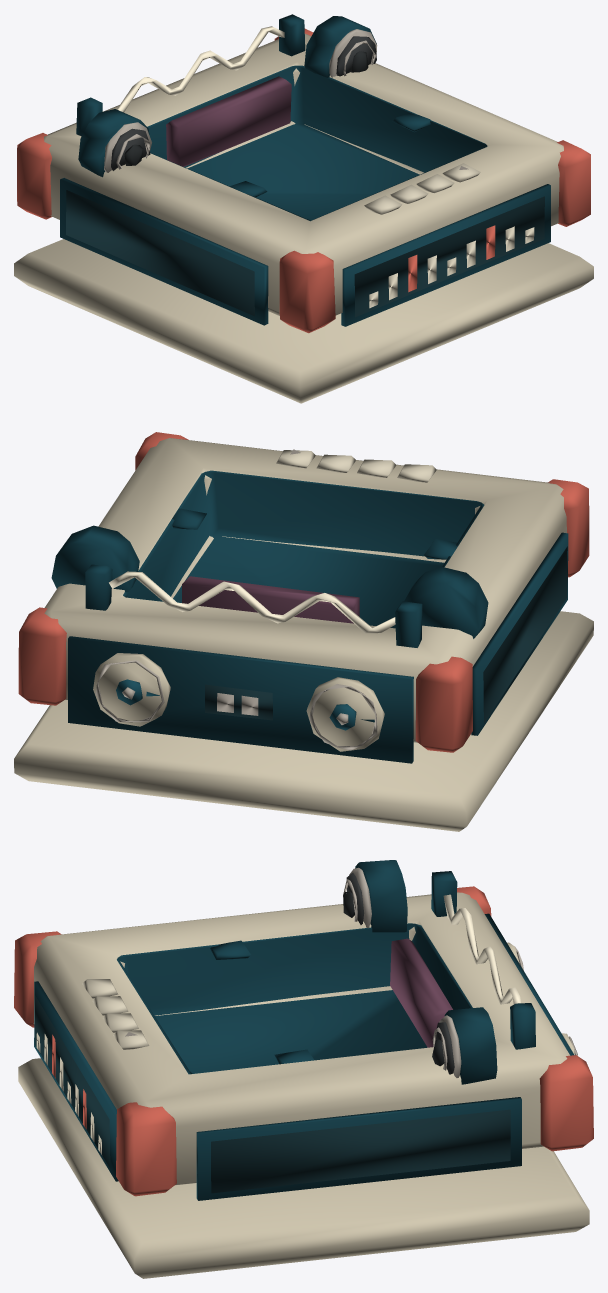
The model's file is kart.body.feedback.lod1.glb.
The picture shows the model from 3 angles, top to bottom: view 1: azimuth 30°, elevation 25°; view 2: azimuth 150°, elevation 25°; view 3: azimuth 270°, elevation 25°; orthographic projection. The views are drawn at different scales.
Parts seen in each view (by area): view 1: emi_vehicle_feedback; view 2: emi_vehicle_feedback; view 3: emi_vehicle_feedback.
Part boxes in pixels (x1,y1,x2,y2): emi_vehicle_feedback: (14, 14, 593, 403); emi_vehicle_feedback: (14, 432, 593, 831); emi_vehicle_feedback: (14, 860, 593, 1278).
Bounding box in the file's own units: 0.4739 × 0.1946 × 0.481.
